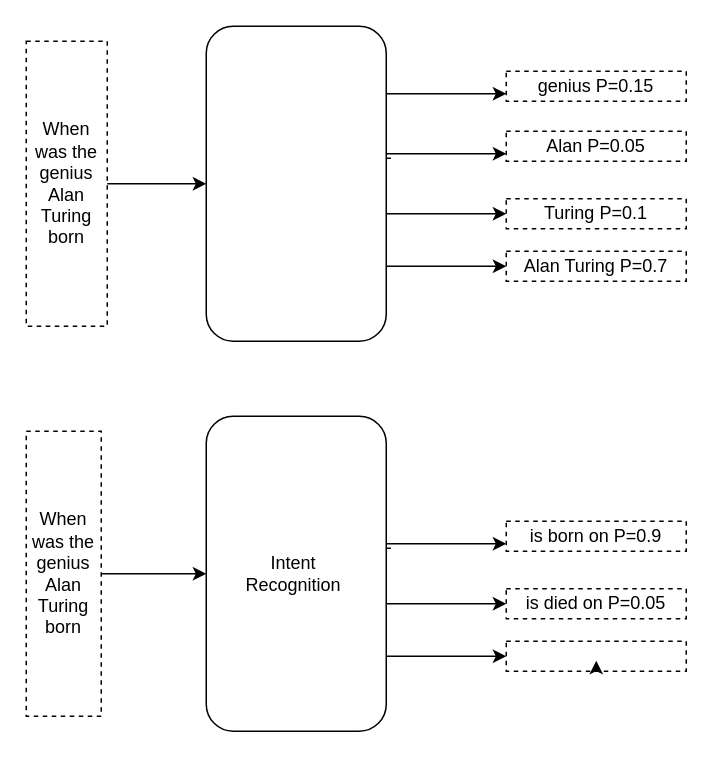
Some shapes in this 713 by 758 pixel diagram are drawn without their labels. The centre of each missing label's shape, as x and y in pixels:
Entity Recognition: [295,183]
is born in P=0.05: [595,655]
